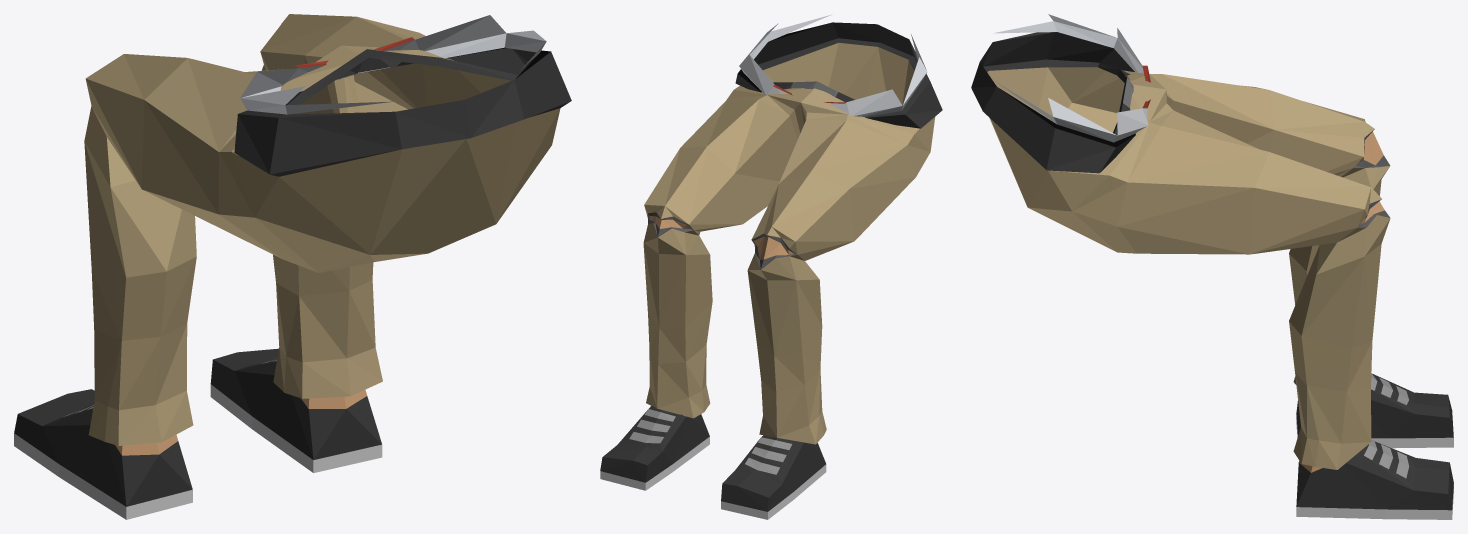
File: Daughter_01_Legs_79_03_B.obj
3 views of the same model, side by side, from view 1: azimuth 30°, elevation 25°; view 2: azimuth 150°, elevation 25°; view 3: azimuth 270°, elevation 25° (orthographic). The views are drawn at different scales.
Parts seen in each view (by area): view 1: Daughter_01_Legs_79_03_B; view 2: Daughter_01_Legs_79_03_B; view 3: Daughter_01_Legs_79_03_B.
Part boxes in pixels (x1=…): Daughter_01_Legs_79_03_B: x1=14, y1=14, x2=571, y2=519; Daughter_01_Legs_79_03_B: x1=600, y1=14, x2=942, y2=519; Daughter_01_Legs_79_03_B: x1=971, y1=14, x2=1453, y2=519.
Size of the model in its own units: 0.381 by 0.6481 by 0.6846.
1 material, 1 textured.
